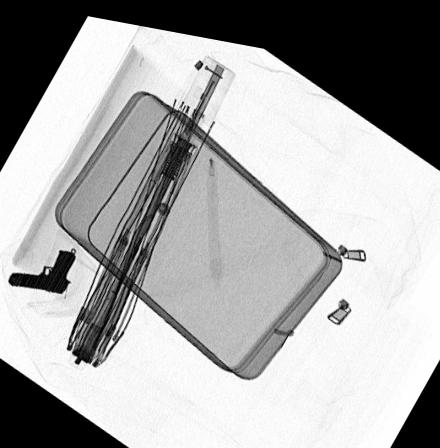Gun: (10, 246, 76, 292)
